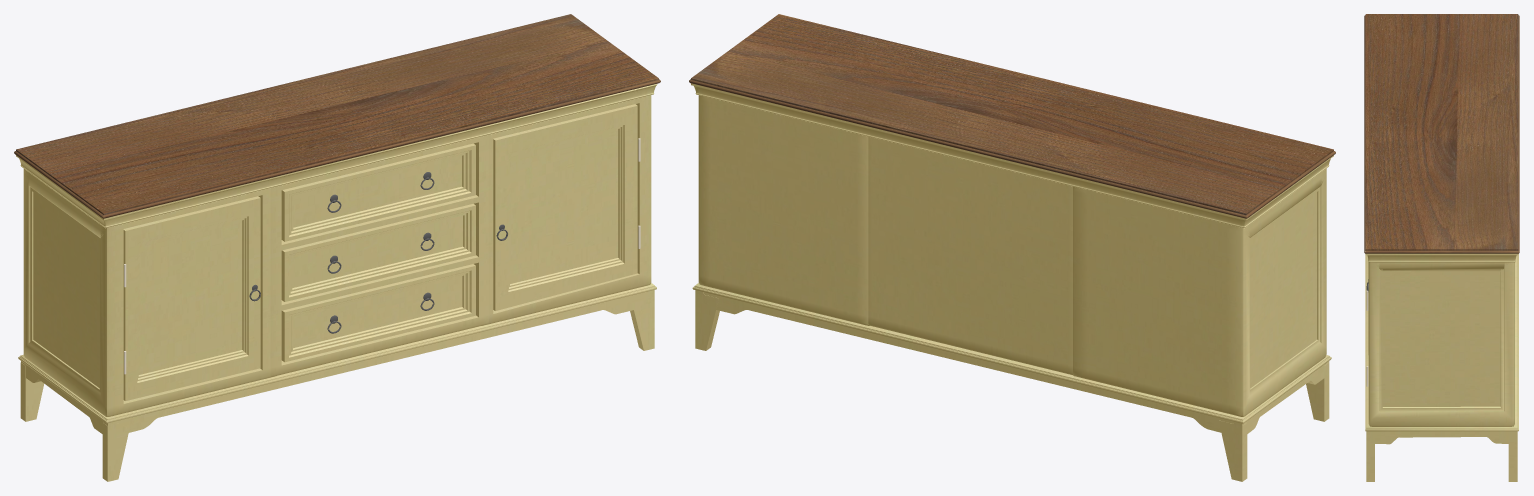
Rendered from example34.glb.
The picture shows the model from 3 angles, left to right: view 1: azimuth 30°, elevation 25°; view 2: azimuth 150°, elevation 25°; view 3: azimuth 270°, elevation 25°; orthographic projection. The views are drawn at different scales.
Visible parts, largest first — view 1: Merged Objects 2, ID74, Merged Objects 1; view 2: Merged Objects 2, ID74; view 3: ID74, Merged Objects 2.
Boxes of the visible parts, x1,y1,x2,y2 form: Merged Objects 2: [16, 84, 657, 481]; ID74: [14, 14, 660, 218]; Merged Objects 1: [249, 172, 507, 333]; Merged Objects 2: [691, 83, 1333, 481]; ID74: [689, 14, 1335, 218]; ID74: [1364, 14, 1519, 253]; Merged Objects 2: [1365, 251, 1518, 481].
Bounding box in the file's own units: 1.38 × 0.6344 × 0.3816.
4 materials, 2 textured.
